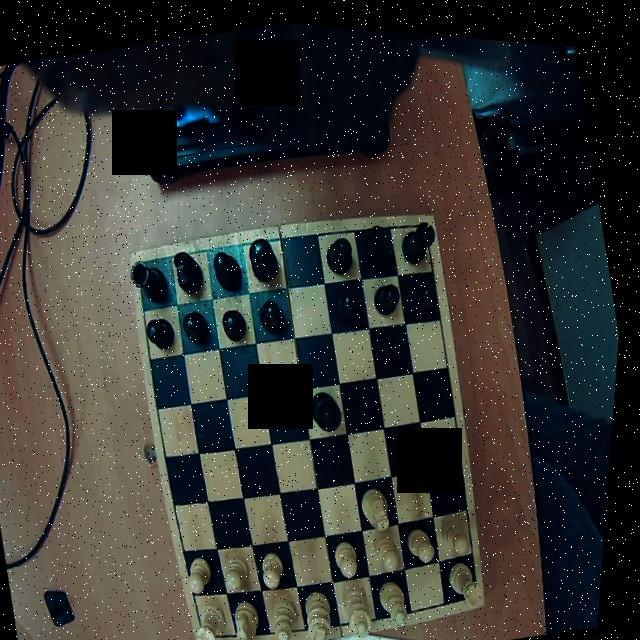chess-table-corners: (132, 247, 160, 278), (473, 568, 496, 600), (412, 204, 438, 232), (206, 619, 229, 640)
